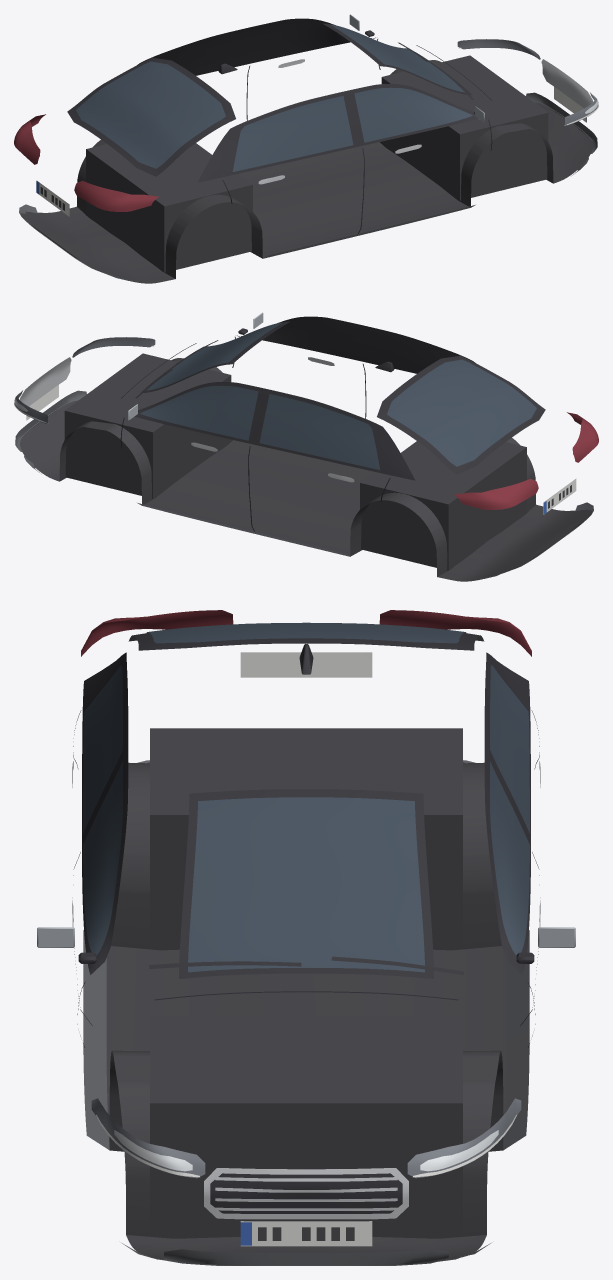
The model's file is car_sedan_detail.glb.
The picture shows the model from 3 angles, top to bottom: view 1: azimuth 30°, elevation 25°; view 2: azimuth 150°, elevation 25°; view 3: azimuth 270°, elevation 25°; orthographic projection. The views are drawn at different scales.
Parts seen in each view (by area): view 1: sedan_detail_Under, sedan_detail_CarGlass, sedan_detail_Frit, sedan_detail_TailDark, sedan_detail_Plastic, sedan_detail_Silver, sedan_detail_LampHousing, sedan_detail_Plate, sedan_detail_Seam; view 2: sedan_detail_Under, sedan_detail_CarGlass, sedan_detail_Frit, sedan_detail_TailDark, sedan_detail_Plastic, sedan_detail_Silver, sedan_detail_LampHousing, sedan_detail_Plate, sedan_detail_Seam; view 3: sedan_detail_Under, sedan_detail_CarGlass, sedan_detail_Frit, sedan_detail_Plastic, sedan_detail_Plate, sedan_detail_Silver, sedan_detail_TailDark, sedan_detail_LampHousing, sedan_detail_Lens, sedan_detail_MirrorGlass.
Boxes of the visible parts, x1,y1,x2,y2 form: sedan_detail_Under: (20, 55, 592, 283); sedan_detail_CarGlass: (76, 24, 472, 171); sedan_detail_Frit: (67, 18, 477, 182); sedan_detail_TailDark: (14, 114, 158, 211); sedan_detail_Plastic: (19, 92, 597, 280); sedan_detail_Silver: (258, 59, 593, 184); sedan_detail_LampHousing: (457, 39, 598, 125); sedan_detail_Plate: (36, 87, 586, 216); sedan_detail_Seam: (222, 39, 492, 235); sedan_detail_Under: (20, 353, 592, 581); sedan_detail_CarGlass: (140, 322, 536, 469); sedan_detail_Frit: (135, 316, 545, 480); sedan_detail_TailDark: (454, 412, 598, 509); sedan_detail_Plastic: (15, 390, 593, 578); sedan_detail_Silver: (19, 357, 354, 482); sedan_detail_LampHousing: (14, 337, 155, 423); sedan_detail_Plate: (26, 385, 576, 514); sedan_detail_Seam: (120, 337, 390, 533); sedan_detail_Under: (106, 728, 506, 1259); sedan_detail_CarGlass: (83, 622, 529, 972); sedan_detail_Frit: (78, 633, 534, 1213); sedan_detail_Plastic: (83, 760, 529, 1265); sedan_detail_Plate: (240, 652, 372, 1246); sedan_detail_Silver: (72, 761, 540, 1219); sedan_detail_TailDark: (81, 610, 531, 656); sedan_detail_LampHousing: (91, 1098, 521, 1178); sedan_detail_Lens: (114, 1130, 498, 1171); sedan_detail_MirrorGlass: (37, 927, 575, 947).
Size of the model in its own units: 4.73 by 1.38 by 2.13.
